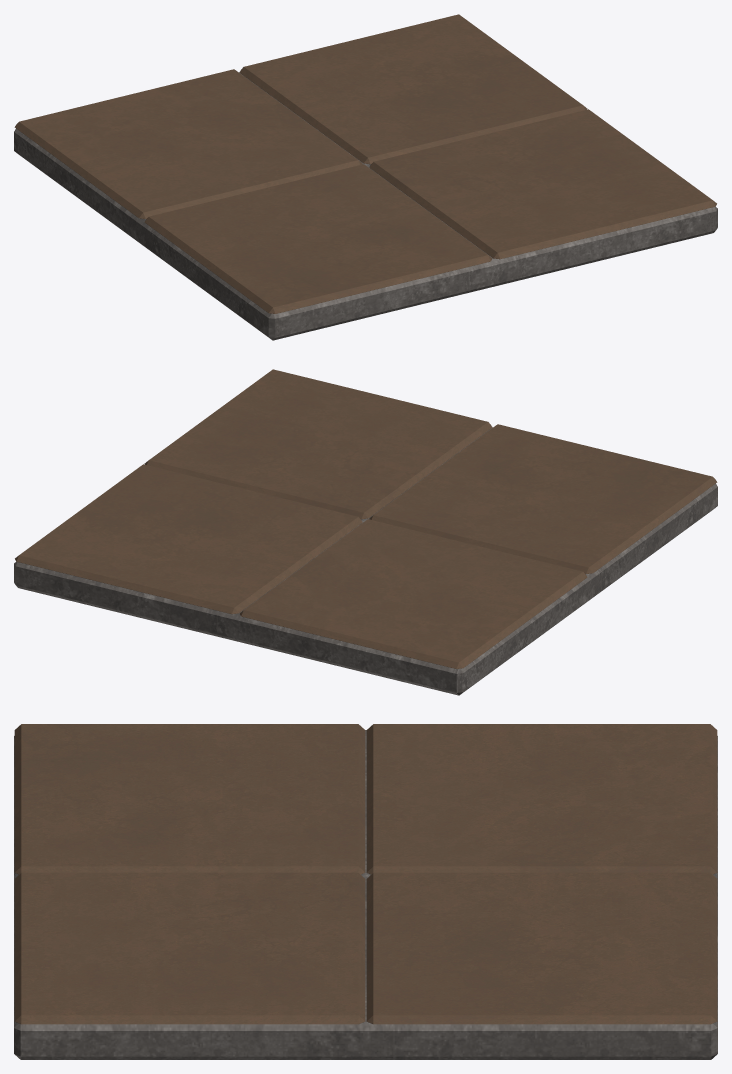
File: SK6 CEILING SMALL.fbx
3 renders of one model, top to bottom at view 1: azimuth 30°, elevation 25°; view 2: azimuth 150°, elevation 25°; view 3: azimuth 270°, elevation 25°, orthographic. The views are drawn at different scales.
Parts seen in each view (by area): view 1: SK6 CEILING SMALL; view 2: SK6 CEILING SMALL; view 3: SK6 CEILING SMALL.
Part boxes in pixels (x1,y1,x2,y2): SK6 CEILING SMALL: [14, 14, 717, 340]; SK6 CEILING SMALL: [14, 369, 717, 695]; SK6 CEILING SMALL: [14, 724, 717, 1059].
Bounding box in the file's own units: 200 × 13.93 × 200.
